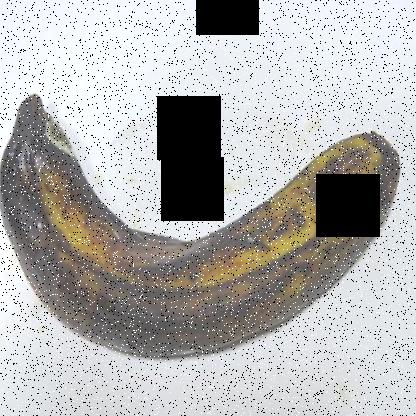rotten: (0, 66, 410, 381)
